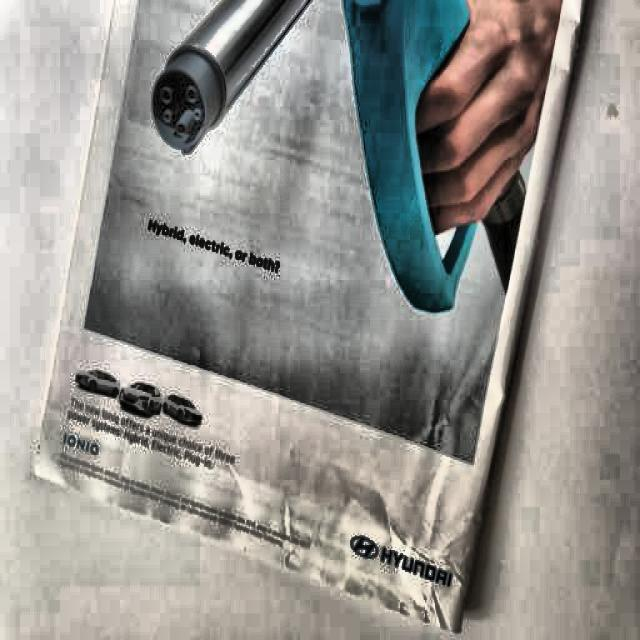paper: (34, 12, 574, 618)
